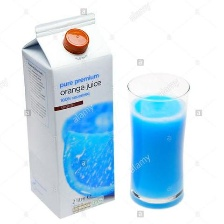carton: (20, 9, 123, 221)
glass: (118, 62, 193, 214)
